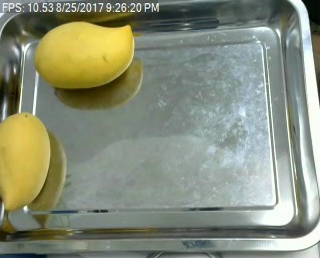Mango: (31, 19, 136, 92), (0, 110, 49, 213)
